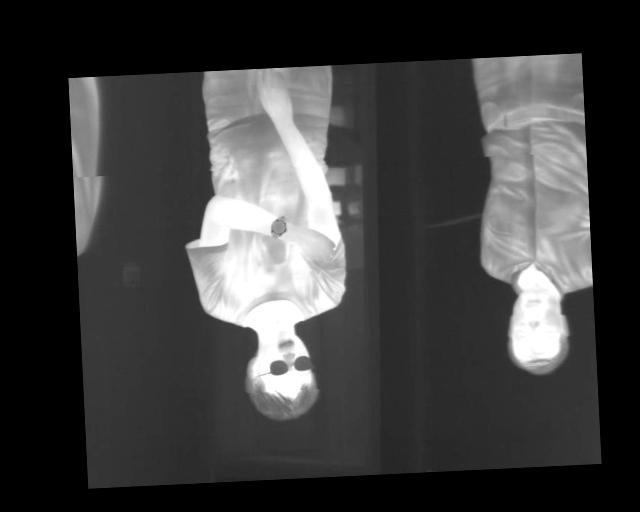face: (242, 326, 322, 424), (505, 282, 573, 378)
